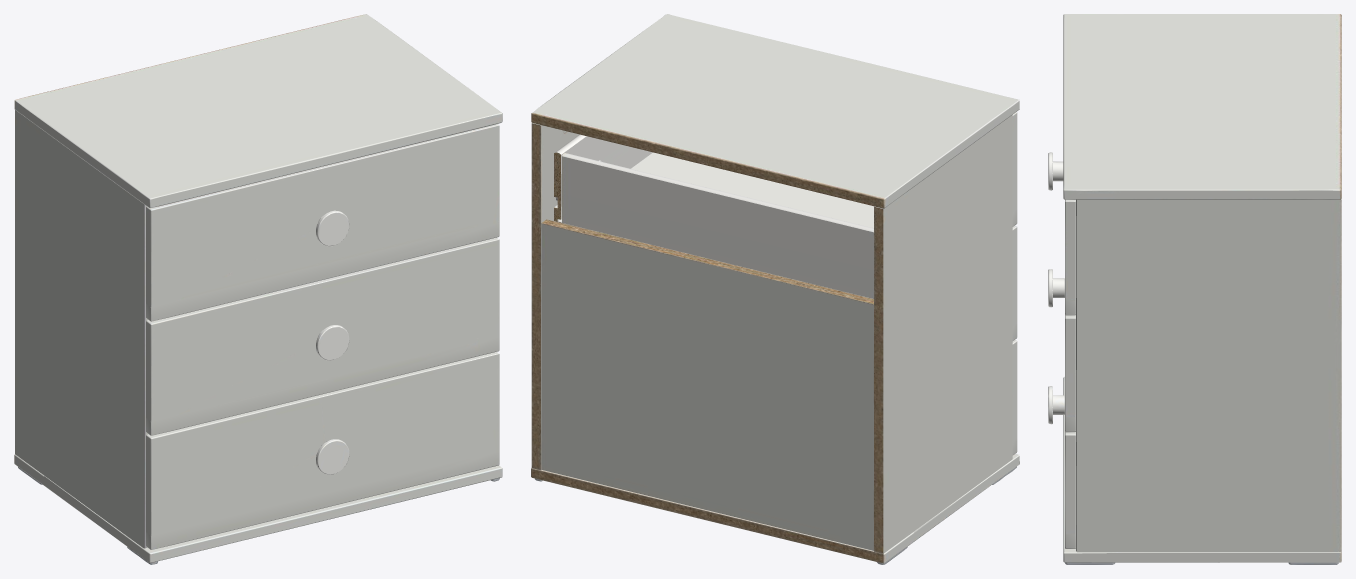
The model's file is godishus_komoda_3_szuflady_80598095.glb.
3 views of the same model, side by side, from view 1: azimuth 30°, elevation 25°; view 2: azimuth 150°, elevation 25°; view 3: azimuth 270°, elevation 25° (orthographic). The views are drawn at different scales.
Visible parts, largest first — view 1: godishus_komoda_3_szuflady_80598095; view 2: godishus_komoda_3_szuflady_80598095; view 3: godishus_komoda_3_szuflady_80598095.
Part boxes in pixels (x1,y1,x2,y2): godishus_komoda_3_szuflady_80598095: (14, 14, 502, 564); godishus_komoda_3_szuflady_80598095: (531, 14, 1019, 564); godishus_komoda_3_szuflady_80598095: (1048, 14, 1341, 564).
Bounding box in the file's own units: 0.5971 × 0.594 × 0.4196.
Materials: 4 (4 with a texture image).
